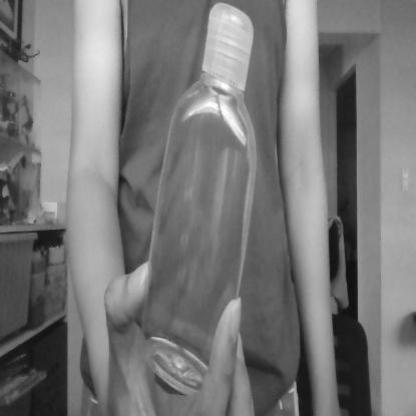Plastic Bottle: (145, 1, 262, 409)
